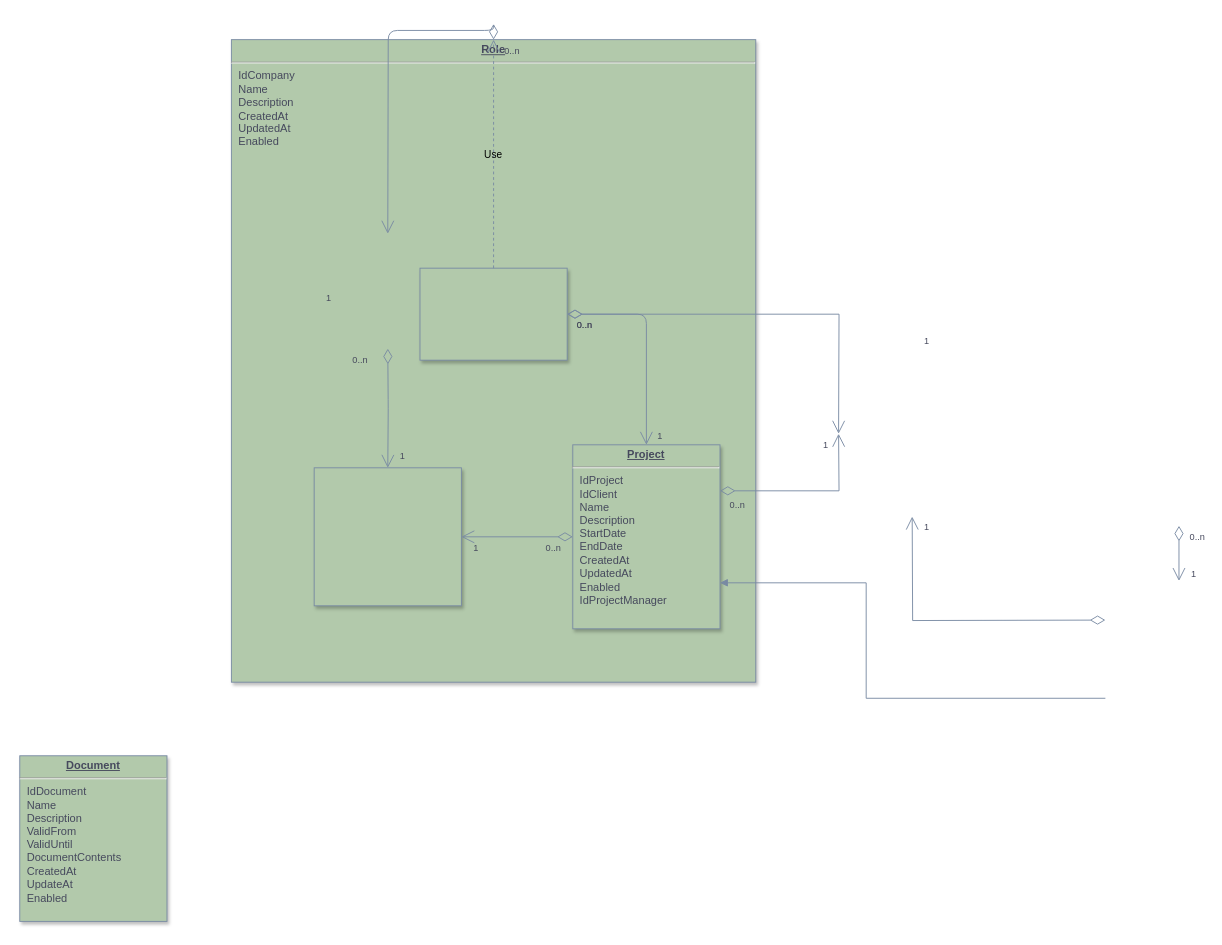
The diagram is 1222 pixels wide and 945 high, and some of its shapes have lost their labels. The shapes that lost their labels are listed below. From the top down, each one's centre as x and y in pixels, then its label:
pixel 494 315: UserProjectRole IdUserProjectRole IdRole IdProject IdUser
pixel 388 537: Client IdClient IdCompany Name Description CreatedAt UpdatedAt Enabled
